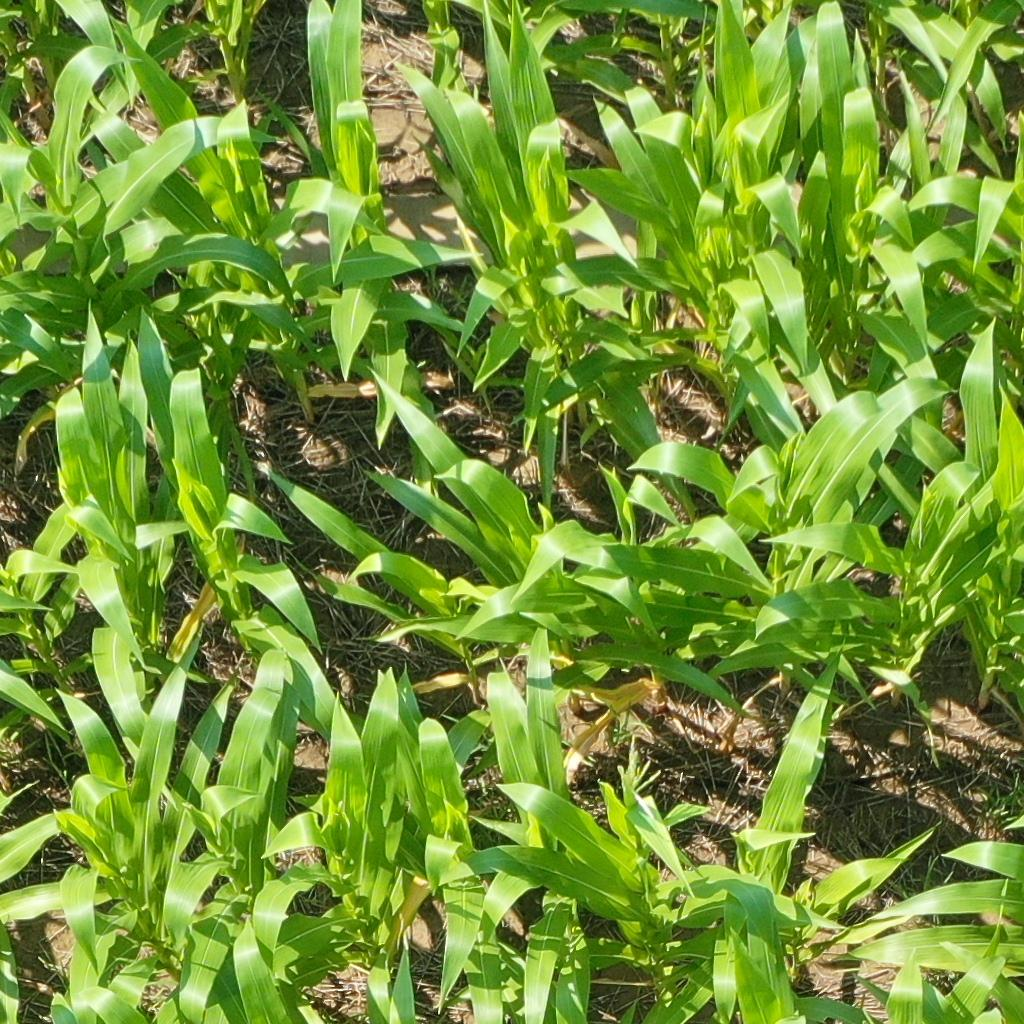Tassel: (611, 733, 664, 807)
